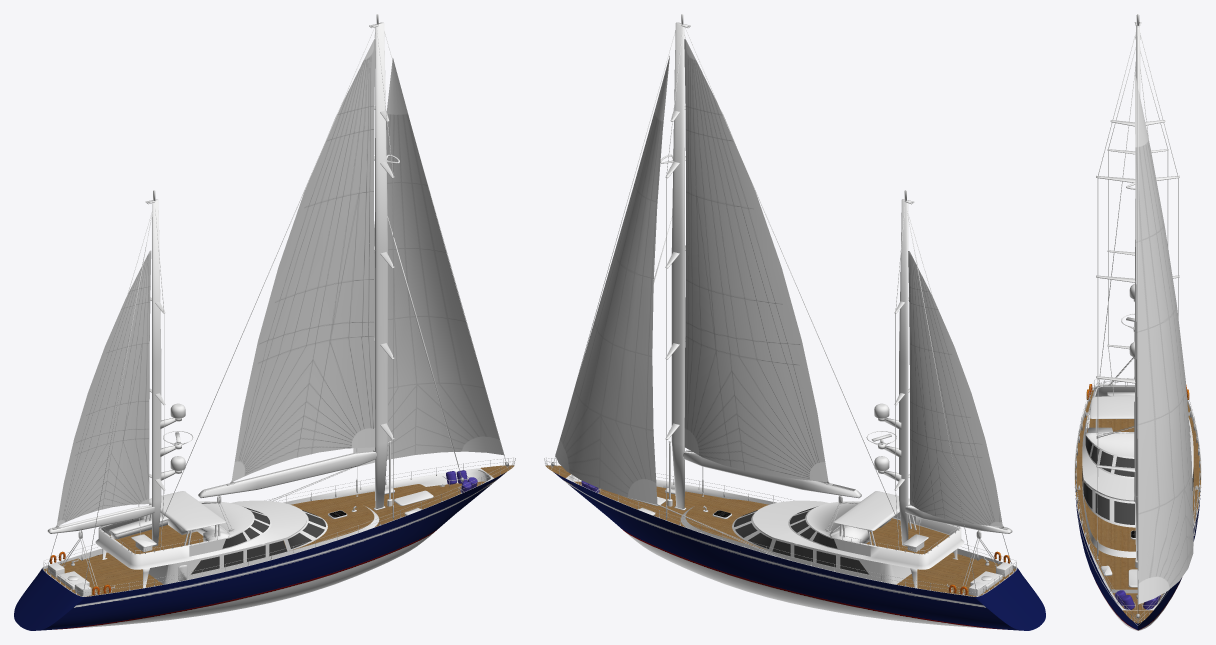
File: boat.fbx
The picture shows the model from 3 angles, left to right: view 1: azimuth 30°, elevation 25°; view 2: azimuth 150°, elevation 25°; view 3: azimuth 270°, elevation 25°; orthographic projection. The views are drawn at different scales.
Parts seen in each view (by area): view 1: KT345, KT346, KT01, KT344, KT68, KT38, KT69, KT03, KT72, KT241, KT26, KT325 (+8 smaller); view 2: KT345, KT346, KT02, KT344, KT68, KT38, KT69, KT03, KT241, KT72, KT09, KT27 (+8 smaller); view 3: KT346, KT38, KT09, KT28, KT341, KT241, KT68, KT252, KT53, KT01, KT339, KT251 (+14 smaller).
Boxes of the visible parts, x1,y1,x2,y2 form: KT345: [231, 39, 375, 481]; KT346: [353, 58, 503, 467]; KT01: [38, 472, 506, 630]; KT344: [56, 250, 151, 525]; KT68: [375, 22, 387, 508]; KT38: [95, 500, 306, 569]; KT69: [152, 199, 161, 546]; KT03: [14, 568, 85, 630]; KT72: [198, 450, 376, 498]; KT241: [149, 491, 225, 530]; KT26: [44, 469, 487, 568]; KT325: [82, 487, 406, 577]; KT345: [684, 39, 828, 482]; KT346: [555, 56, 669, 504]; KT02: [553, 472, 1021, 630]; KT344: [908, 251, 1002, 526]; KT68: [671, 22, 684, 508]; KT38: [753, 500, 964, 569]; KT69: [899, 199, 908, 546]; KT03: [974, 568, 1045, 630]; KT241: [834, 491, 910, 530]; KT72: [683, 450, 861, 498]; KT09: [657, 487, 977, 577]; KT27: [680, 510, 911, 584]; KT346: [1135, 73, 1193, 604]; KT38: [1082, 385, 1193, 500]; KT09: [1075, 415, 1137, 578]; KT28: [1083, 496, 1135, 551]; KT341: [1137, 36, 1138, 619]; KT241: [1090, 395, 1134, 418]; KT68: [1135, 25, 1140, 559]; KT252: [1084, 482, 1134, 524]; KT53: [1085, 432, 1190, 456]; KT01: [1075, 491, 1137, 630]; KT339: [1097, 32, 1135, 558]; KT251: [1085, 435, 1134, 476].
Size of the model in its own units: 170656 by 181769 by 34386.
